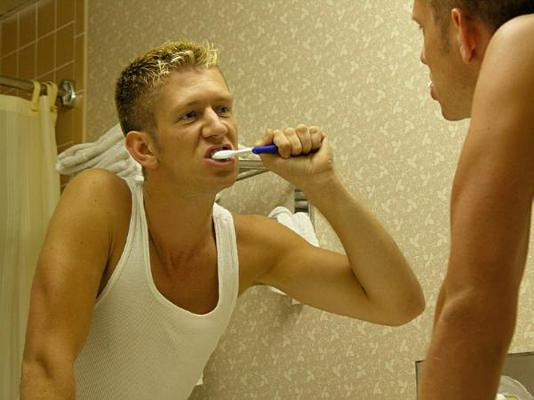person: (17, 41, 427, 400)
